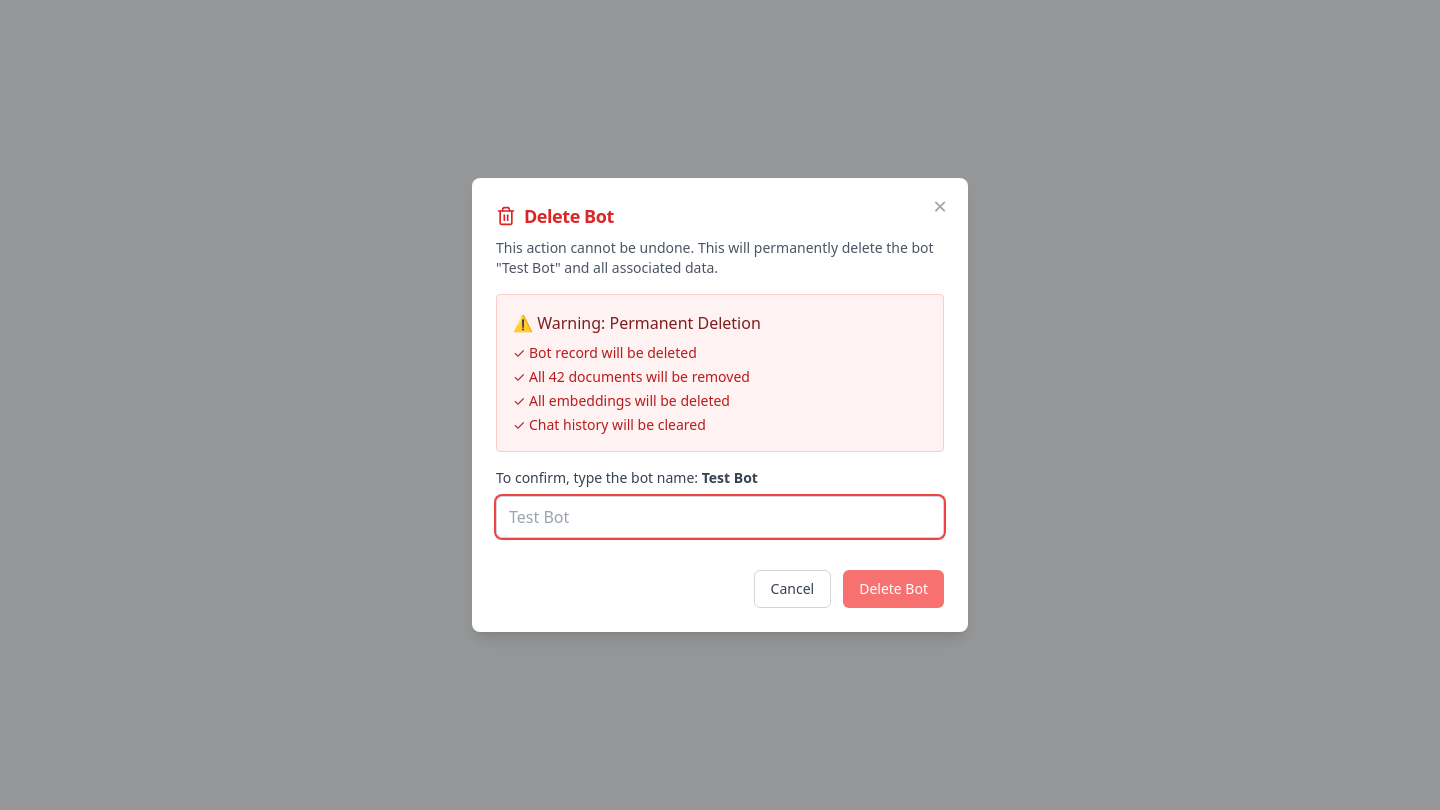
Test: DeleteBotModal › shows error when name doesn't match exactly
Type "test bot" into the field with placeholder "Test Bot" at [720, 517], box x1=496 y1=496 x2=944 y2=538
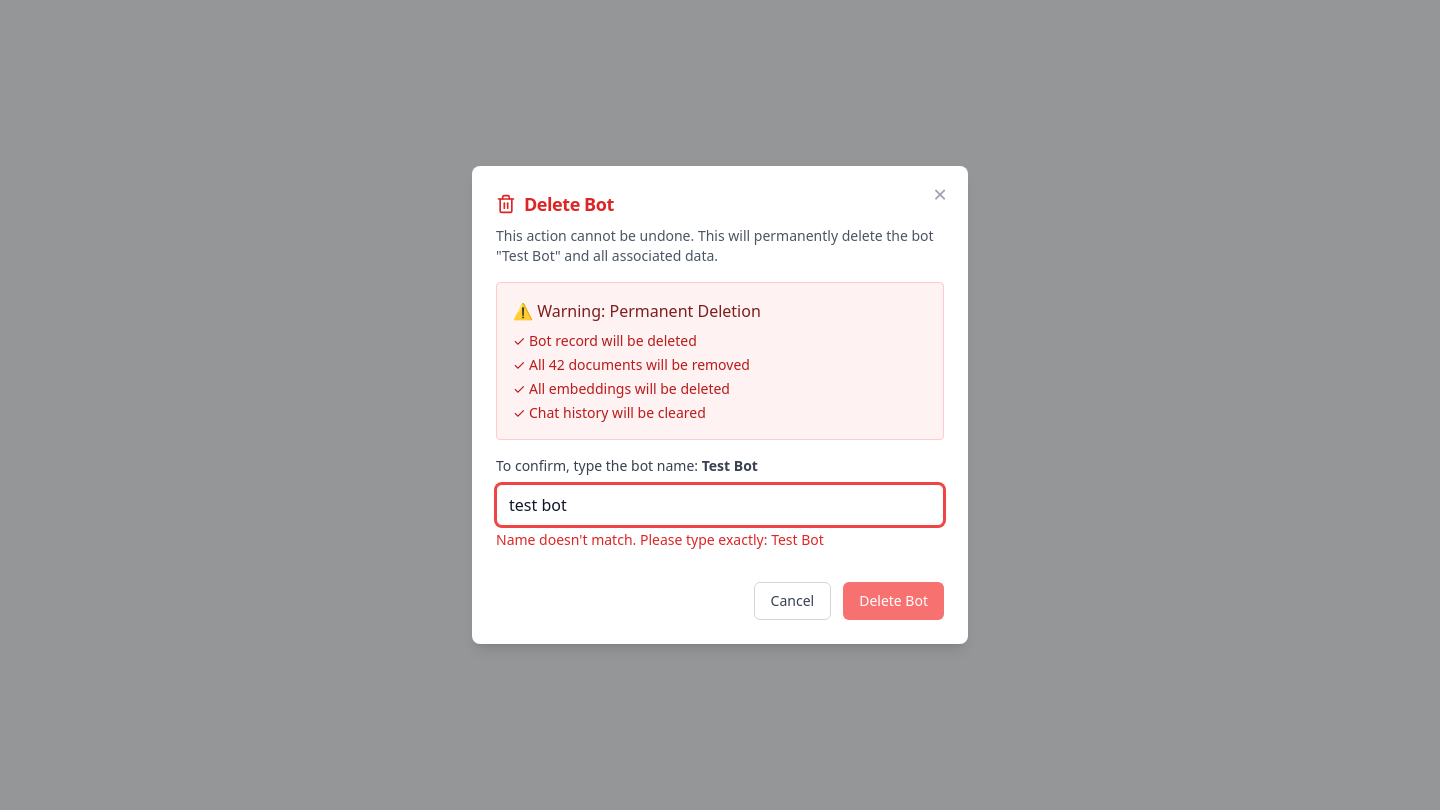
Check: the text "Name doesn't match. Please type exactly: Test Bot" is shown, box x1=496 y1=530 x2=824 y2=549
